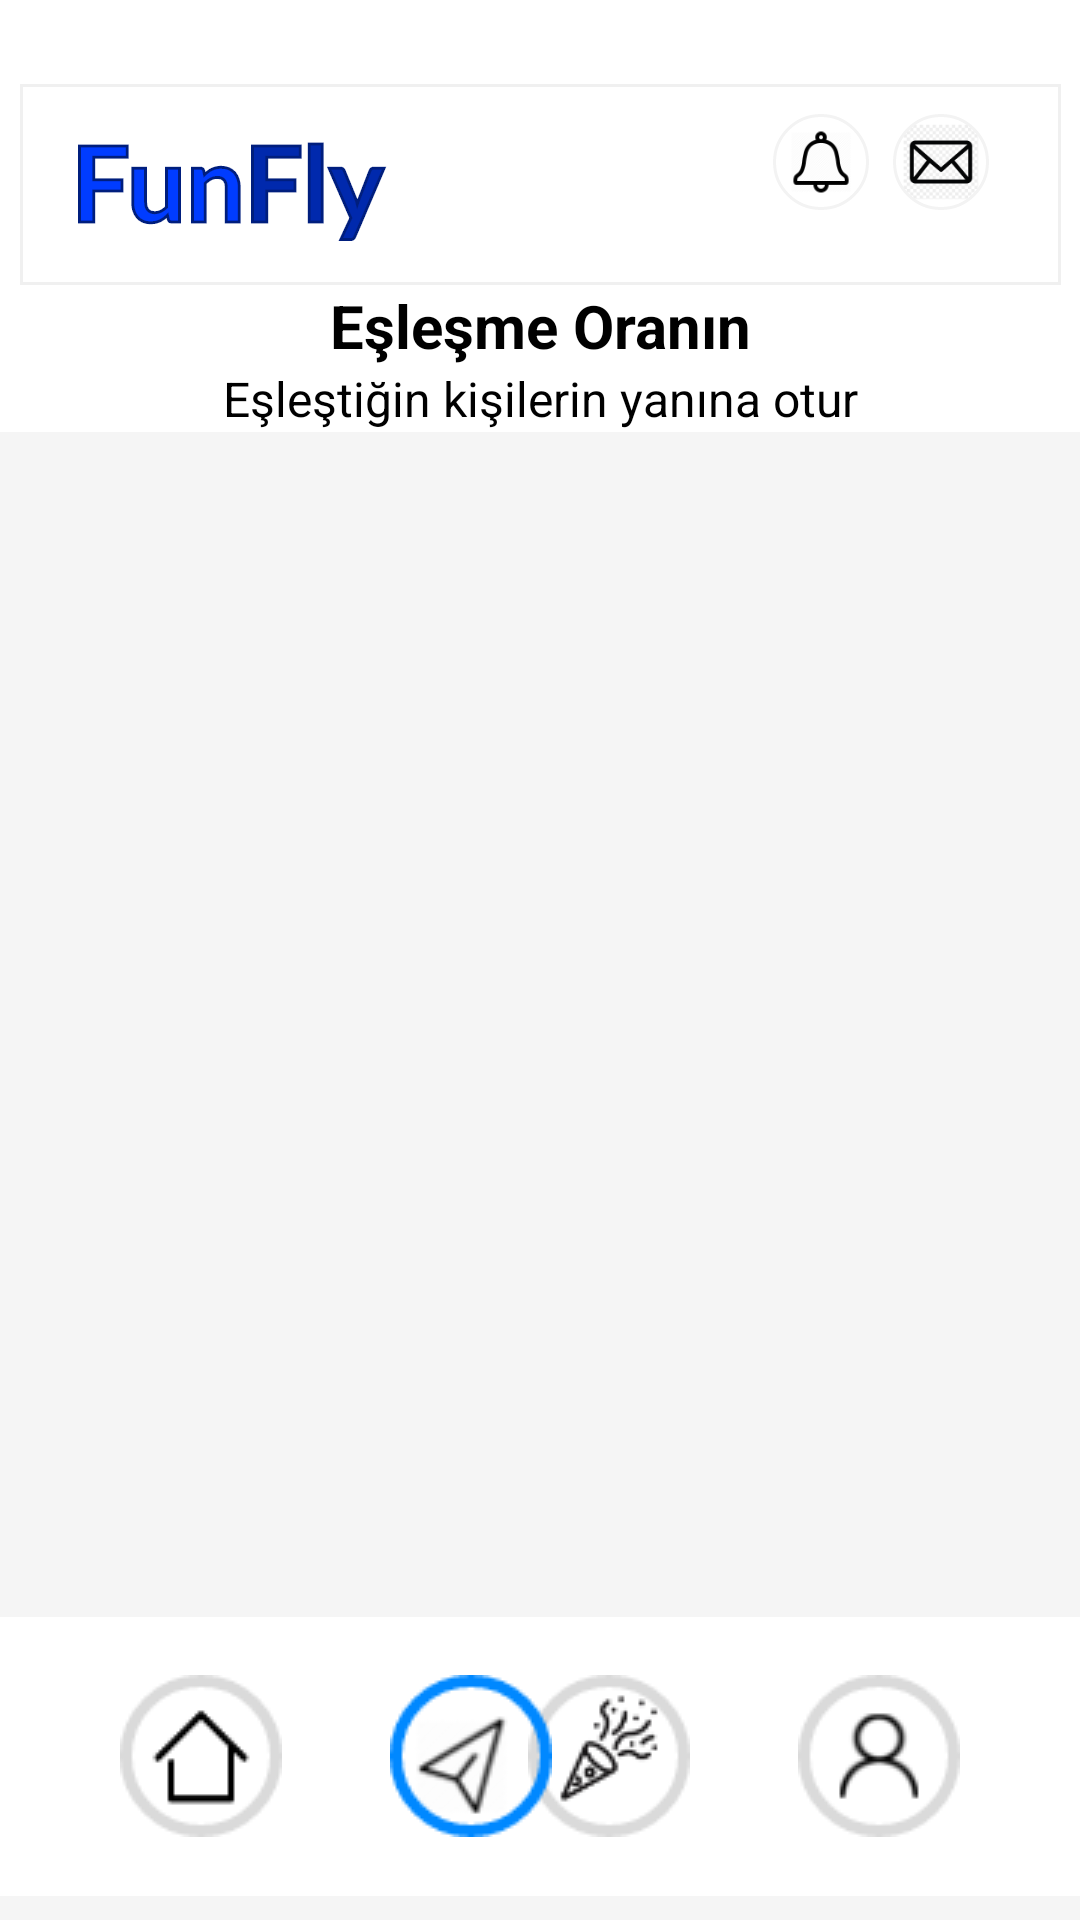

Screen size 1080 × 1920. Icon name, then its box in pixels as box(x1, y1, x2, y2):
ent: box(528, 1675, 690, 1837)
homeicon: box(120, 1675, 282, 1837)
profil: box(798, 1675, 960, 1837)
